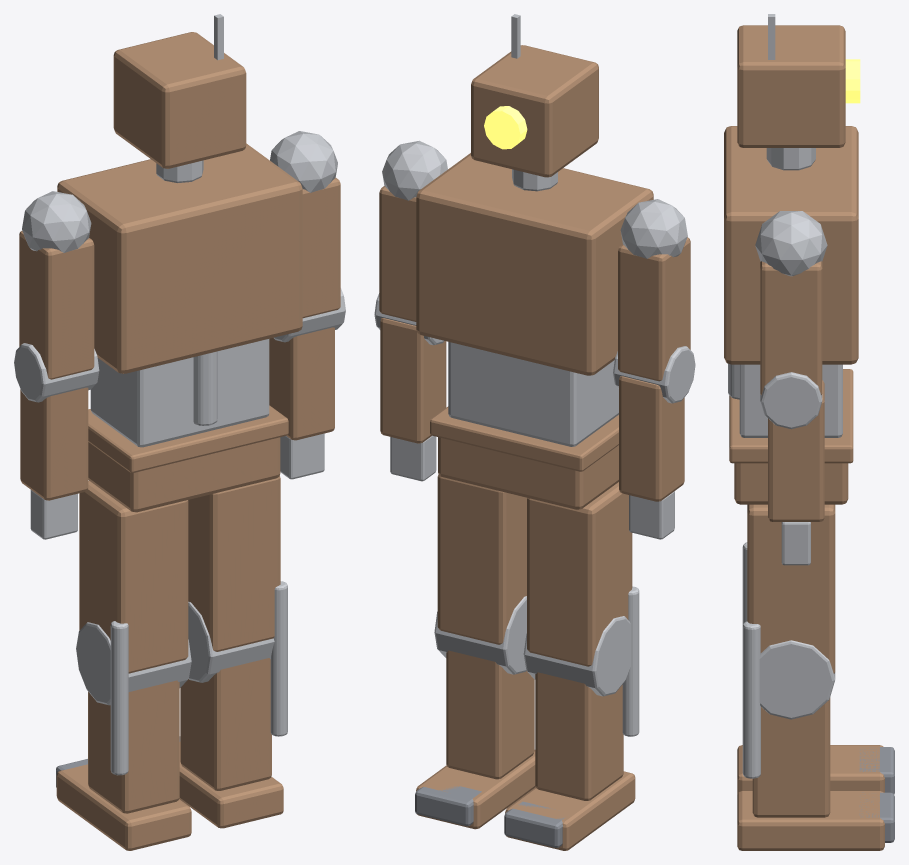
Rendered from robot_g0.glb.
The picture shows the model from 3 angles, left to right: view 1: azimuth 30°, elevation 25°; view 2: azimuth 150°, elevation 25°; view 3: azimuth 270°, elevation 25°; orthographic projection. The views are drawn at different scales.
Visible parts, largest first — view 1: chest, thigh0, head, thigh2, abdomen, shin2, shin0, upperarm0, pelvis, forearm0, forearm2, foot0 (+15 smaller); view 2: chest, thigh0, thigh2, head, abdomen, shin0, shin2, upperarm0, pelvis, forearm0, forearm2, upperarm2 (+15 smaller); view 3: chest, head, thigh2, shin2, upperarm2, foot2, forearm2, knee2, shoulder_joint2, abdomen, belt, piston2 (+11 smaller).
Part boxes in pixels (x1,y1,x2,y2): chest: (57, 143, 302, 373); thigh0: (79, 480, 188, 673); head: (113, 32, 246, 168); thigh2: (188, 476, 280, 651); abdomen: (90, 339, 269, 447); shin2: (180, 658, 271, 790); shin0: (88, 680, 179, 813); upperarm0: (19, 231, 94, 379); pelvis: (88, 422, 280, 512); forearm0: (20, 387, 88, 500); forearm2: (269, 327, 334, 440); foot0: (56, 764, 191, 850); chest: (416, 153, 653, 375); thigh0: (527, 482, 632, 666); thigh2: (437, 474, 526, 644); head: (471, 45, 598, 177); abdomen: (448, 342, 618, 446); shin0: (535, 672, 623, 800); shin2: (446, 650, 534, 779); upperarm0: (618, 237, 690, 381); pelvis: (438, 424, 618, 509); forearm0: (619, 376, 684, 501); forearm2: (380, 318, 446, 443); upperarm2: (379, 186, 416, 321); chest: (724, 126, 858, 364); head: (737, 25, 845, 147); thigh2: (747, 504, 835, 673); shin2: (752, 697, 830, 817); upperarm2: (760, 261, 822, 394); foot2: (737, 791, 884, 850); forearm2: (768, 380, 824, 521); knee2: (759, 640, 835, 719); shoulder_joint2: (755, 211, 827, 276); abdomen: (739, 364, 842, 437); belt: (729, 369, 853, 463); piston2: (742, 621, 760, 778).
Bounding box in the file's own units: 0.707 × 1.77 × 0.3366.
